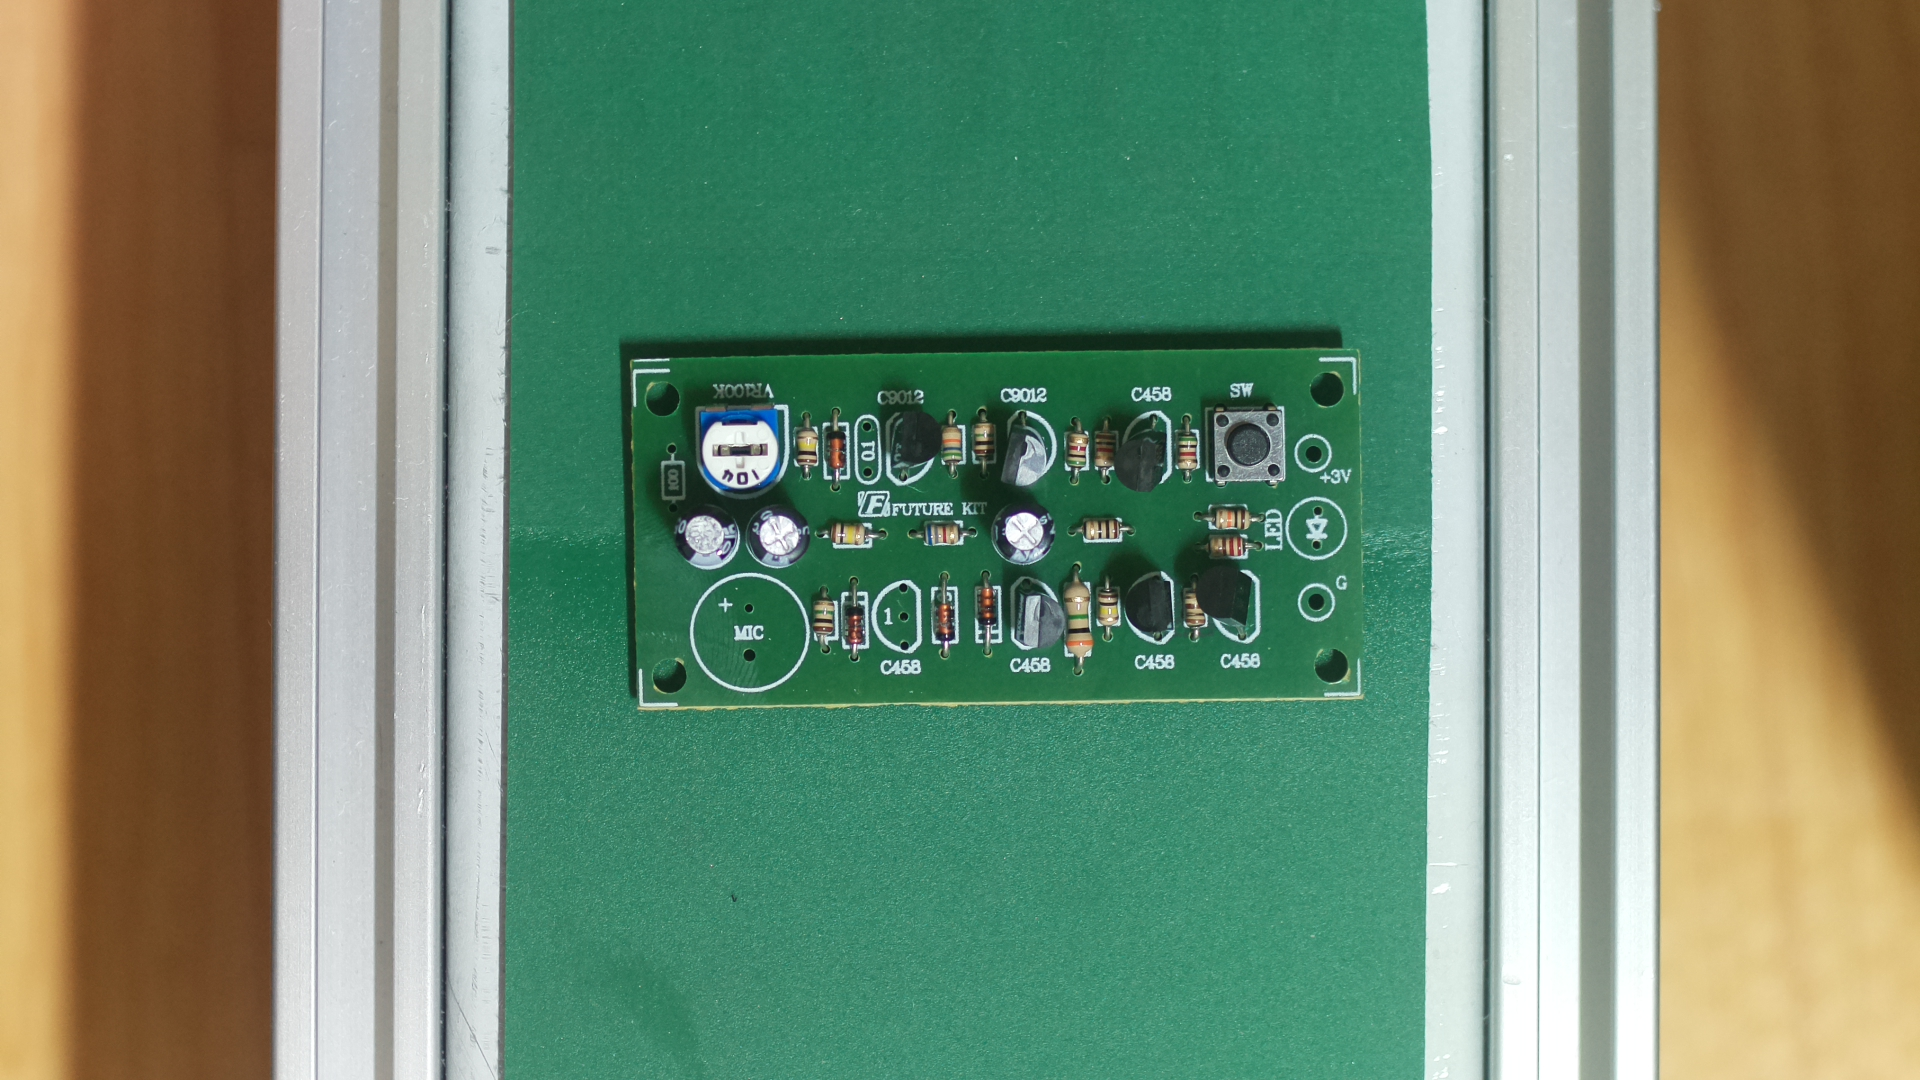A_Missing_part: (618, 347, 1377, 717)
